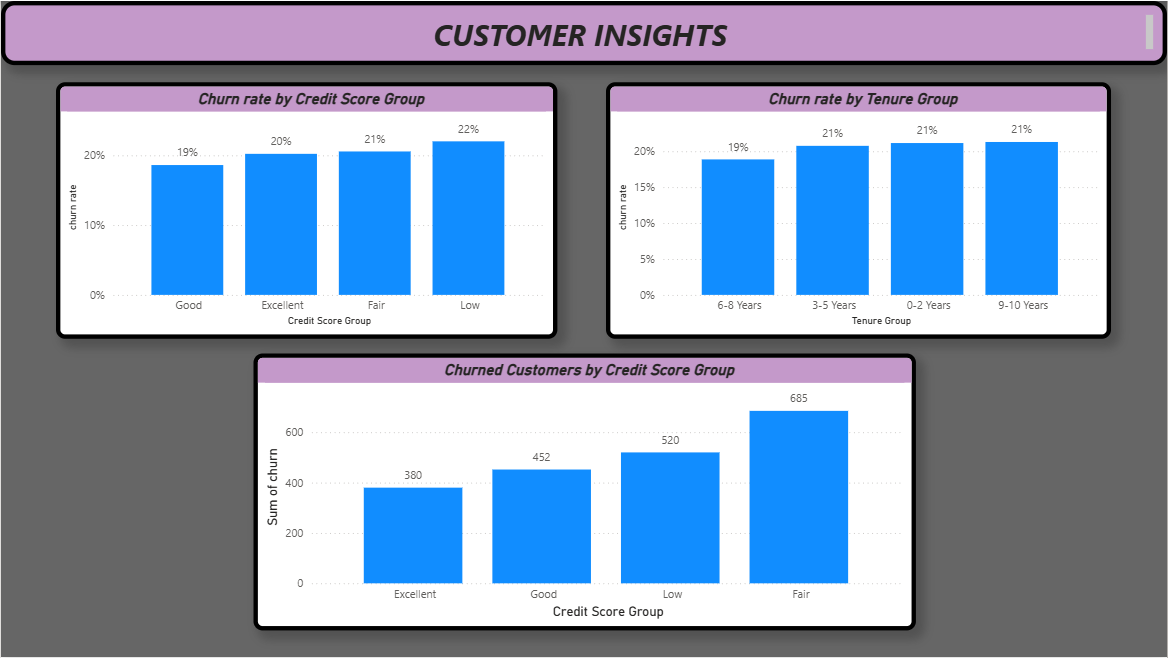

Layout of this report page (visuals, bound fields, positions):
{"tool":"powerbi","page":{"name":"Customer Insights","canvas":[1280,720],"ordinal":2},"visuals":[{"type":"clusteredColumnChart","title":"Churn rate by Credit Score Group","fields":{"Category":["Bank Customers.Credit Score Group"],"Y":["Bank Customers.churn rate"]},"box":[60,88.6,550,281.4],"z":0},{"type":"clusteredColumnChart","title":" Churned Customers by Credit Score Group","fields":{"Category":["Bank Customers.Credit Score Group"],"Y":["Sum(Bank Customers.churn)"]},"box":[277.1,387.1,727.1,304.3],"z":1000},{"type":"clusteredColumnChart","title":"Churn rate by Tenure Group","fields":{"Category":["Bank Customers.Tenure Group"],"Y":["Bank Customers.churn rate"]},"box":[664.3,88.6,554.3,281.4],"z":2000},{"type":"textbox","box":[0,0,1280,70],"z":2001}]}

Visuals, with their boxes in screenshot pixels (x1, y1, x2, y2), scaled from the page's 1280x720 canvas onto the 1168x658 screenshot:
"Churn rate by Credit Score Group" clusteredColumnChart: left=55, top=81, right=557, bottom=338
" Churned Customers by Credit Score Group" clusteredColumnChart: left=253, top=354, right=916, bottom=632
"Churn rate by Tenure Group" clusteredColumnChart: left=606, top=81, right=1112, bottom=338
textbox: left=0, top=0, right=1167, bottom=64
